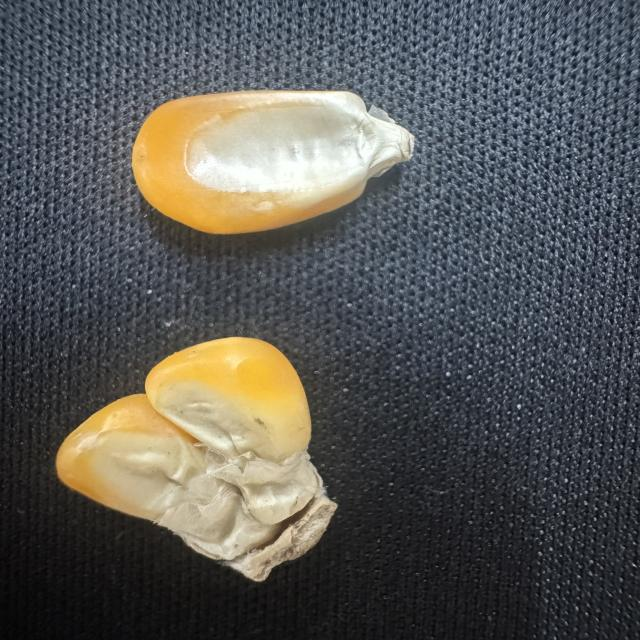Bad-Seed: (50, 333, 343, 585)
Good-Seed: (127, 84, 425, 240)
